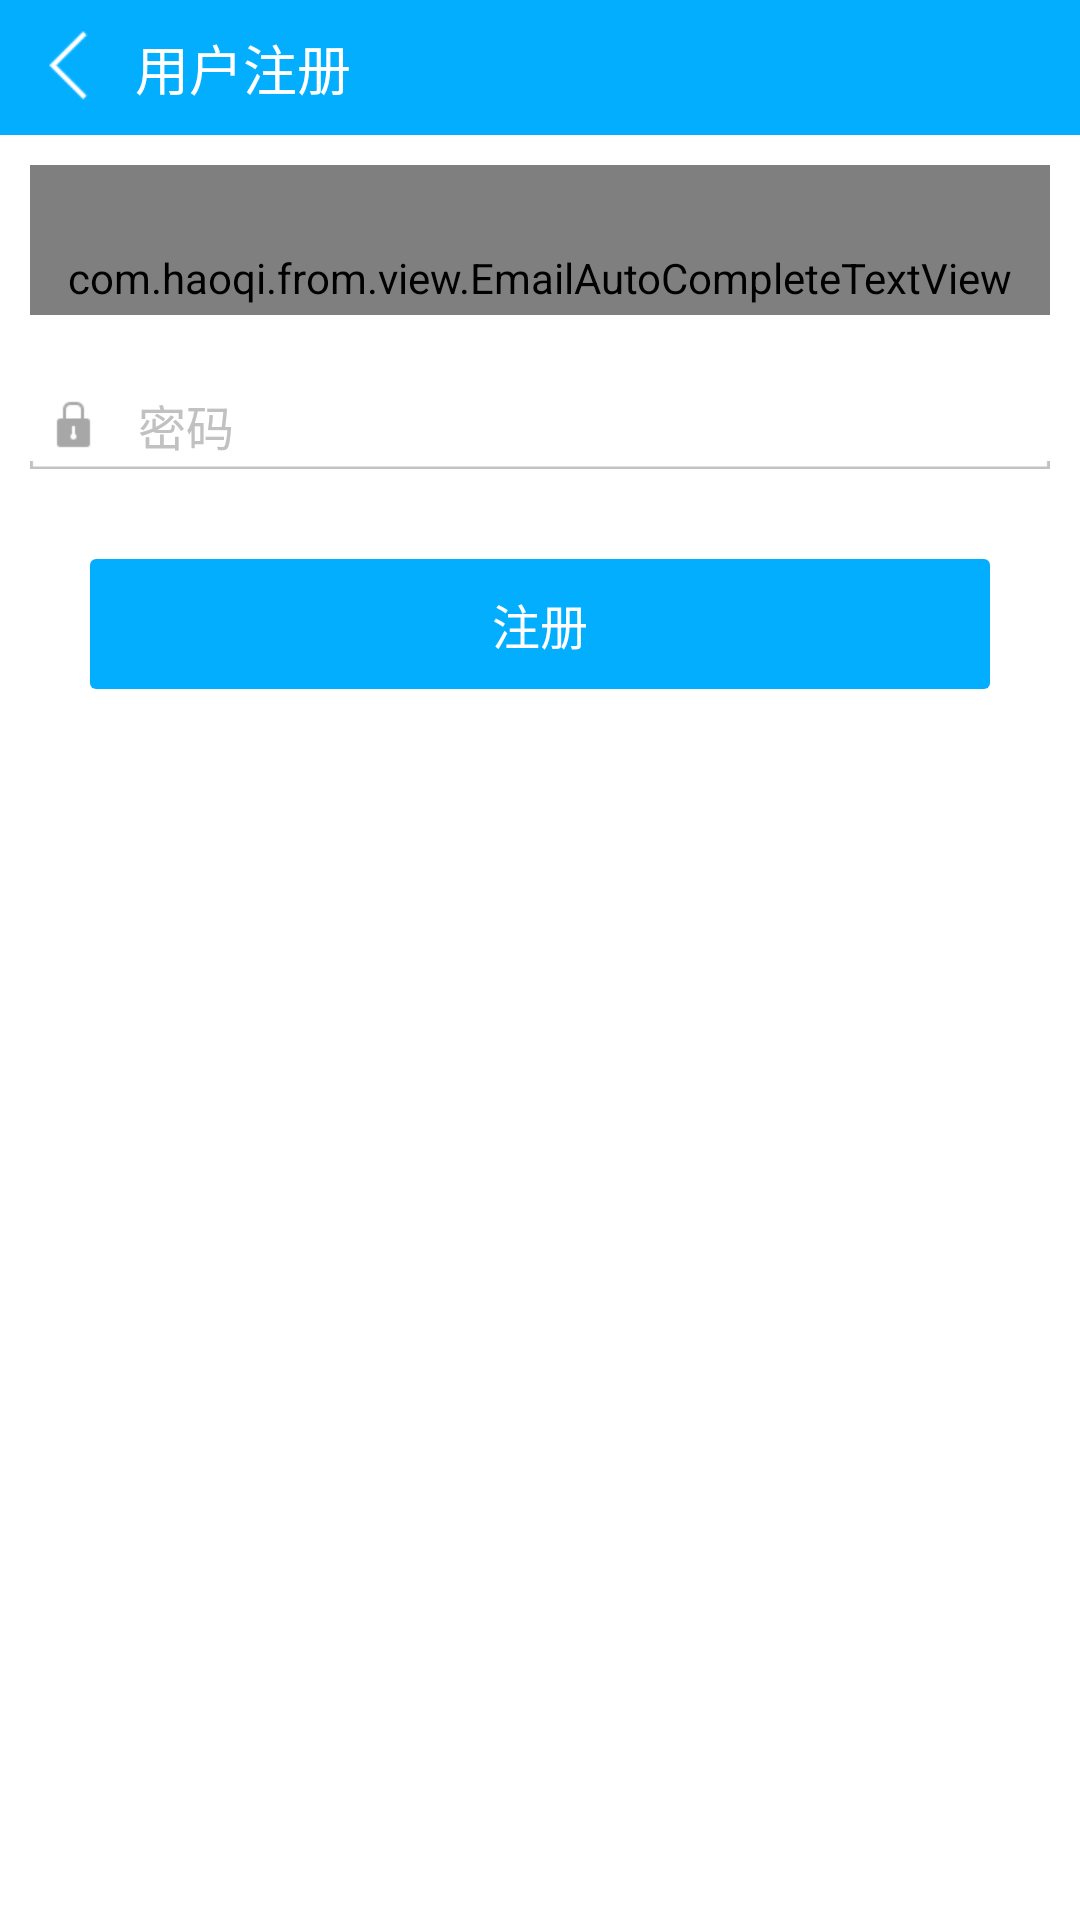

Icons on this 1080x1920 Android screen, each with its box as Rect(x1, y1, x2, y2):
back: Rect(49, 31, 88, 100)
